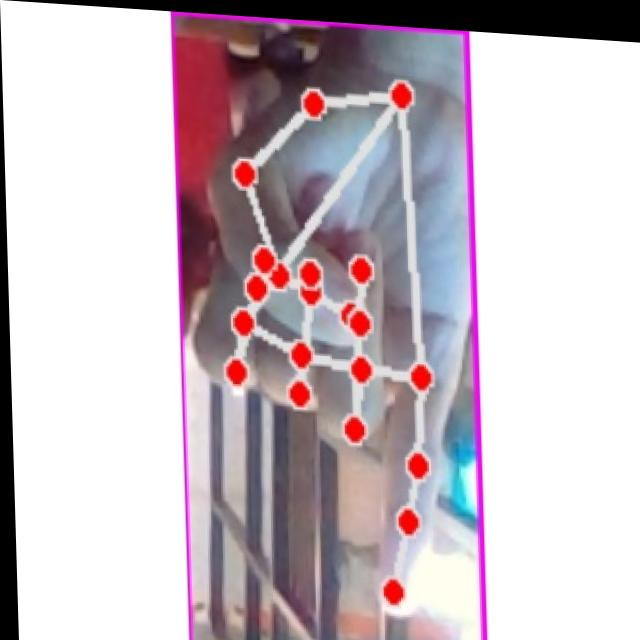I: (193, 41, 471, 628)
